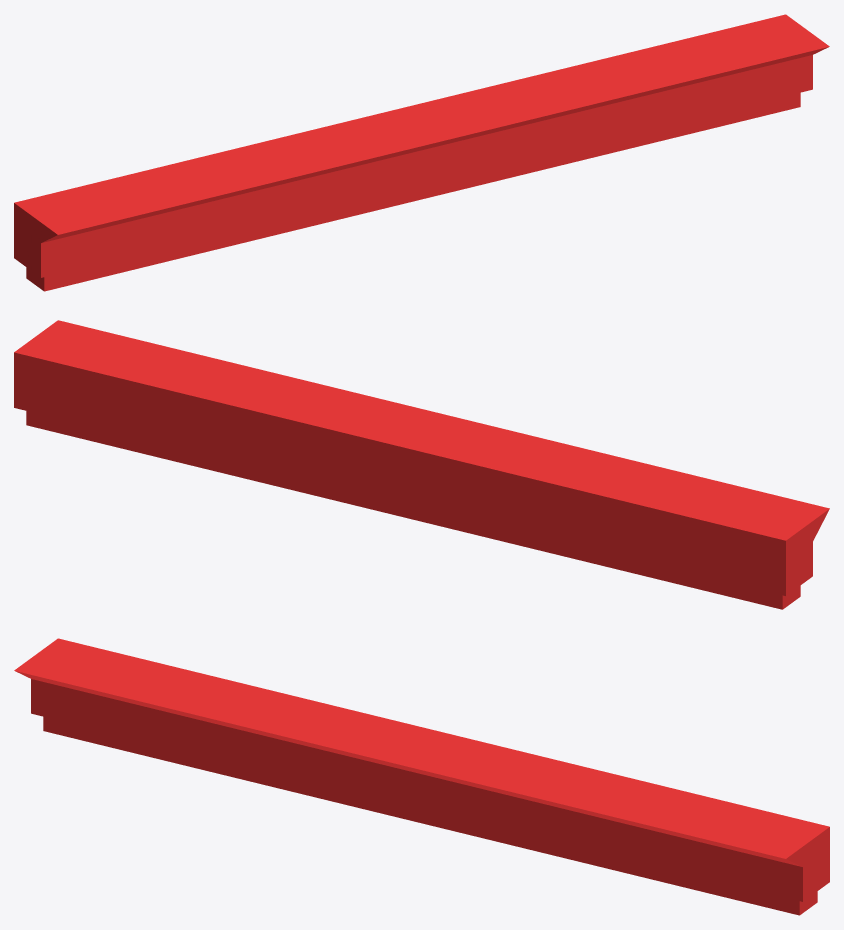
Rendered from wall_B_top.fbx.
3 renders of one model, top to bottom at view 1: azimuth 30°, elevation 25°; view 2: azimuth 150°, elevation 25°; view 3: azimuth 330°, elevation 25°, orthographic.
Parts seen in each view (by area): view 1: wall_B_top; view 2: wall_B_top; view 3: wall_B_top.
Part boxes in pixels (x1=…): wall_B_top: x1=14, y1=14, x2=829, y2=291; wall_B_top: x1=14, y1=320, x2=829, y2=609; wall_B_top: x1=14, y1=638, x2=829, y2=915.
Bounding box in the file's own units: 400 × 36.73 × 39.56.
